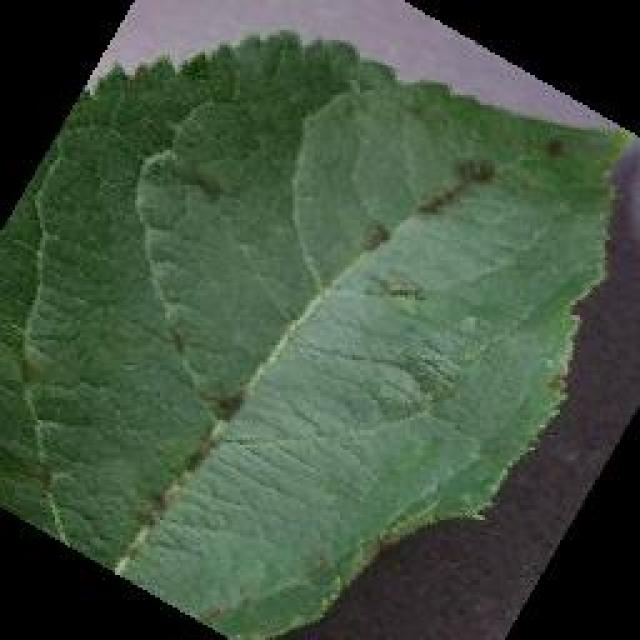apple scab disease: (0, 25, 638, 637)
